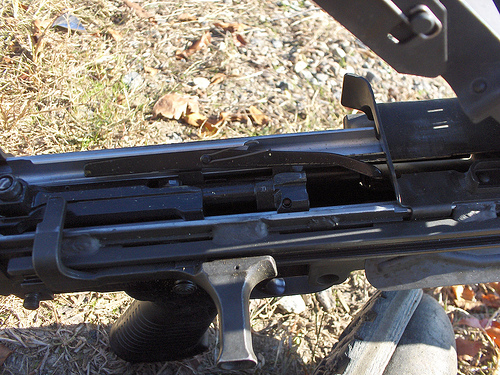rifle: (4, 23, 497, 326)
